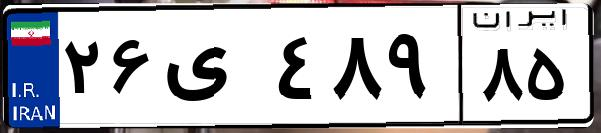2: (57, 26, 110, 100)
4: (270, 28, 330, 110)
5: (525, 38, 570, 115)
6: (110, 28, 158, 98)
8: (330, 28, 385, 110), (475, 38, 525, 113)
9: (385, 28, 445, 110)
ی: (158, 20, 270, 120)
